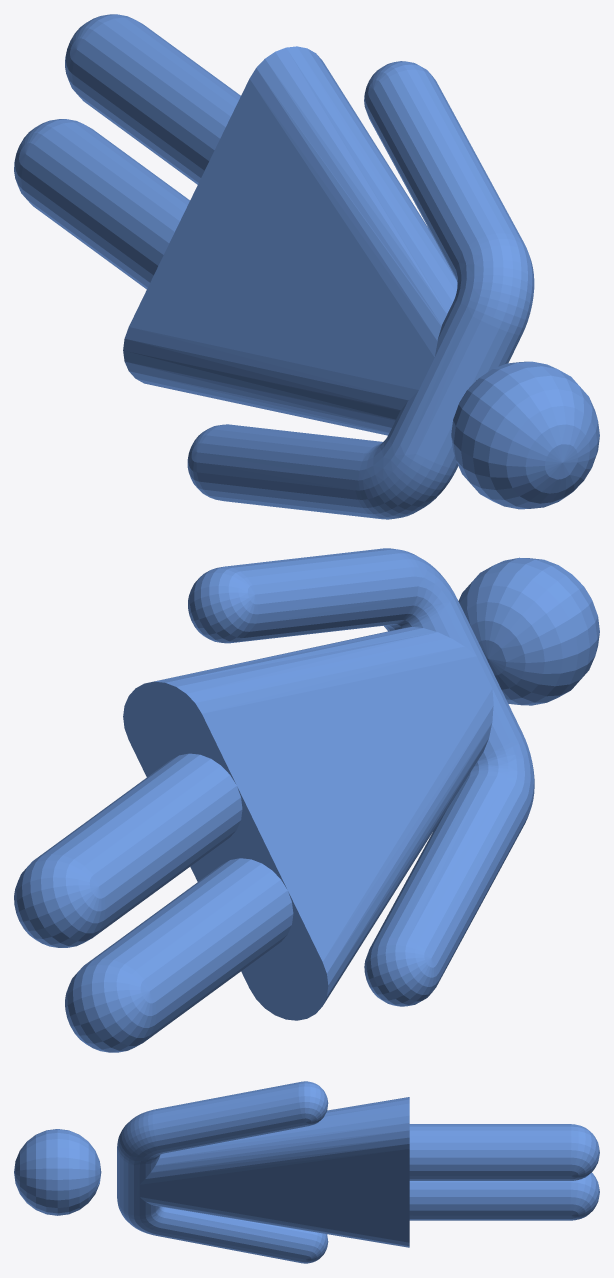
The model's file is Icon Women.glb.
3 renders of one model, top to bottom at view 1: azimuth 30°, elevation 25°; view 2: azimuth 150°, elevation 25°; view 3: azimuth 270°, elevation 25°, orthographic. The views are drawn at different scales.
Visible parts, largest first — view 1: world; view 2: world; view 3: world.
Part boxes in pixels (x1,y1,x2,y2): world: (14, 14, 599, 519); world: (14, 548, 599, 1052); world: (14, 1081, 599, 1263).
Size of the model in its own units: 0.289 by 0.4427 by 1.03.
